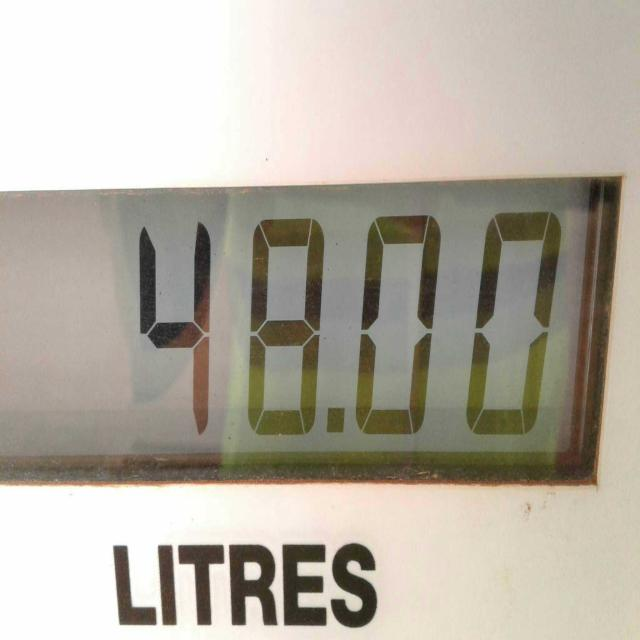.: (314, 393, 349, 455)
0: (340, 205, 458, 458), (461, 198, 575, 442)
4: (118, 229, 242, 450)
8: (241, 208, 328, 450)
